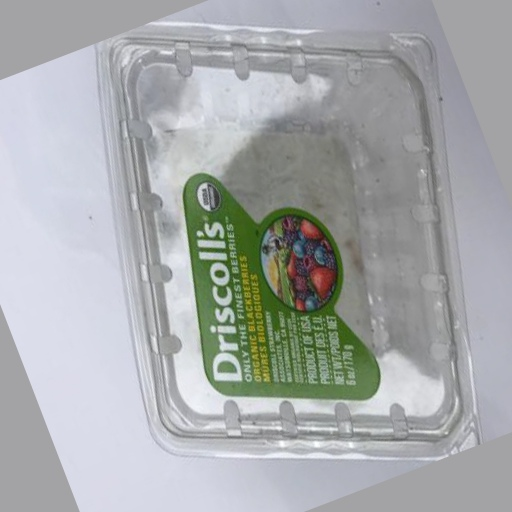Plastic_4: (96, 21, 480, 459)
